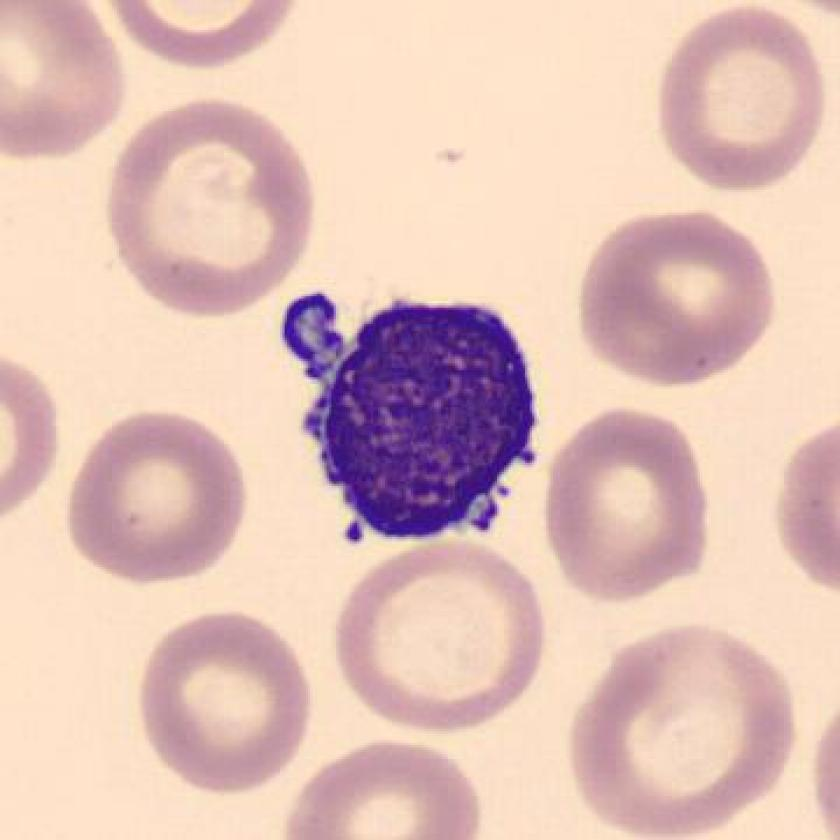lymphocyte: (260, 265, 554, 561)
